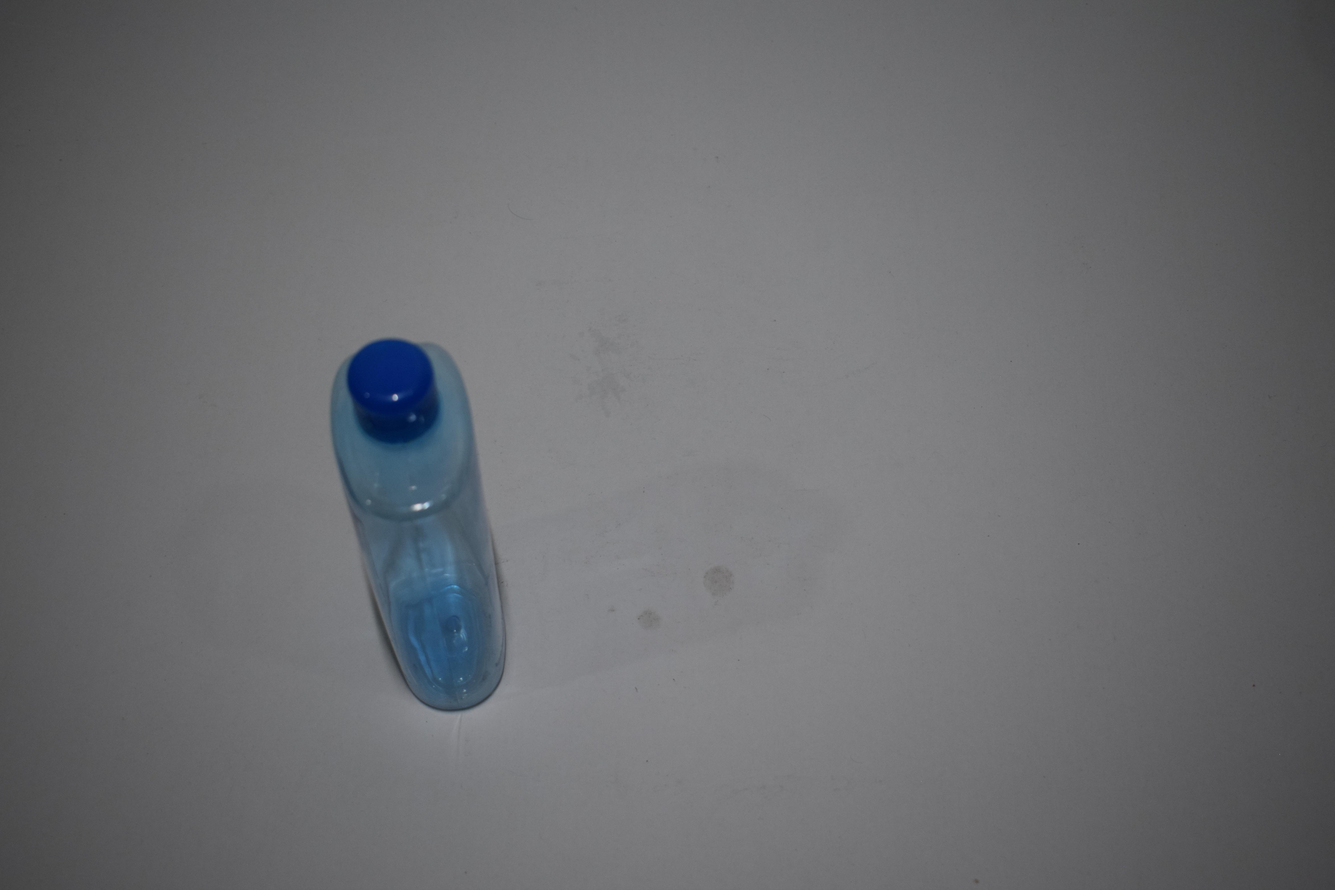plastic: (327, 339, 513, 716)
